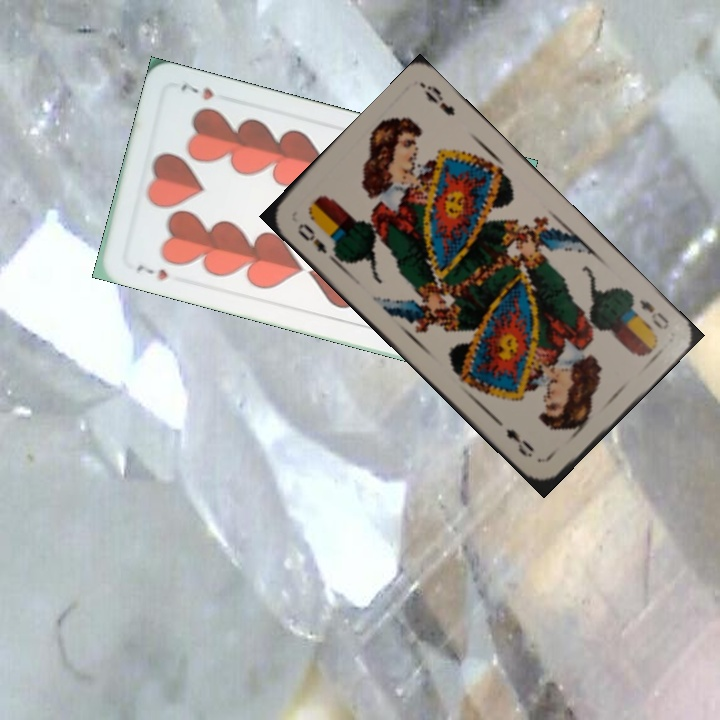EO: (293, 219, 330, 257), (635, 295, 672, 333)
H7: (132, 260, 171, 283)
